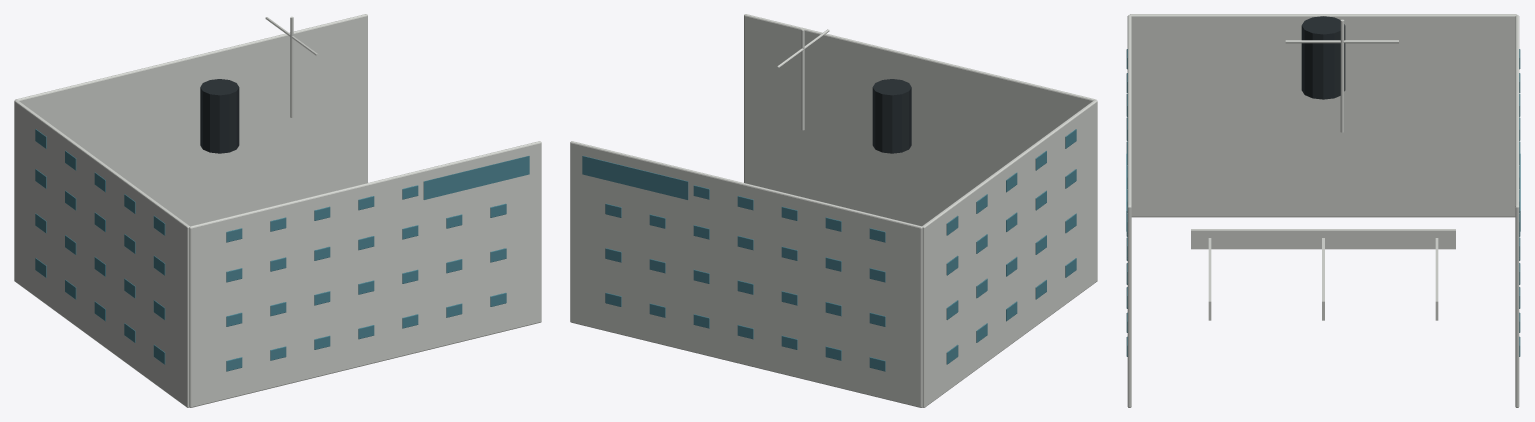
File: tanker_superstructure.glb
3 views of the same model, side by side, from view 1: azimuth 30°, elevation 25°; view 2: azimuth 150°, elevation 25°; view 3: azimuth 270°, elevation 25° (orthographic). The views are drawn at different scales.
Parts seen in each view (by area): view 1: UpperShell_Cutaway; view 2: UpperShell_Cutaway; view 3: UpperShell_Cutaway, VisibleGeometry.
Boxes of the visible parts, x1,y1,x2,y2 form: UpperShell_Cutaway: (14, 14, 541, 407); UpperShell_Cutaway: (570, 14, 1097, 407); UpperShell_Cutaway: (1126, 14, 1520, 407); VisibleGeometry: (1191, 229, 1455, 320).
Bounding box in the file's own units: 24.17 × 17.75 × 20.84.
